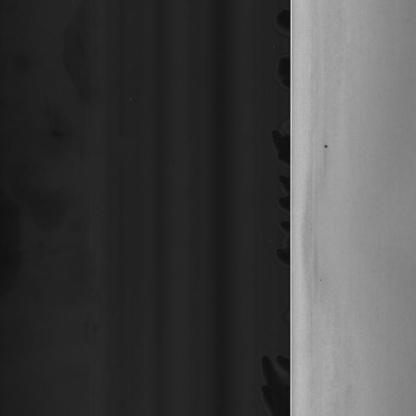inclusion: (323, 140, 330, 156)
